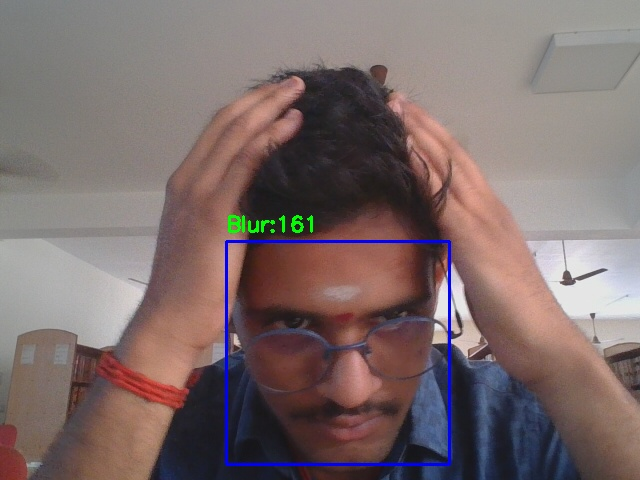real: (226, 241, 449, 464)
